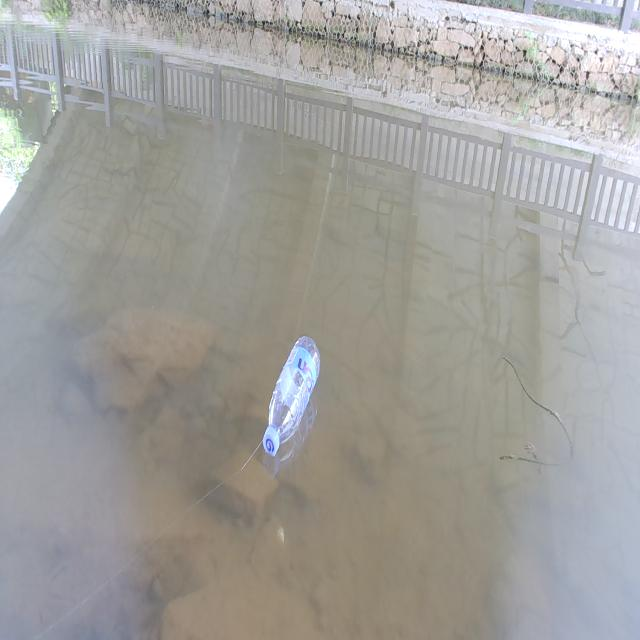bottle: (247, 307, 332, 481)
